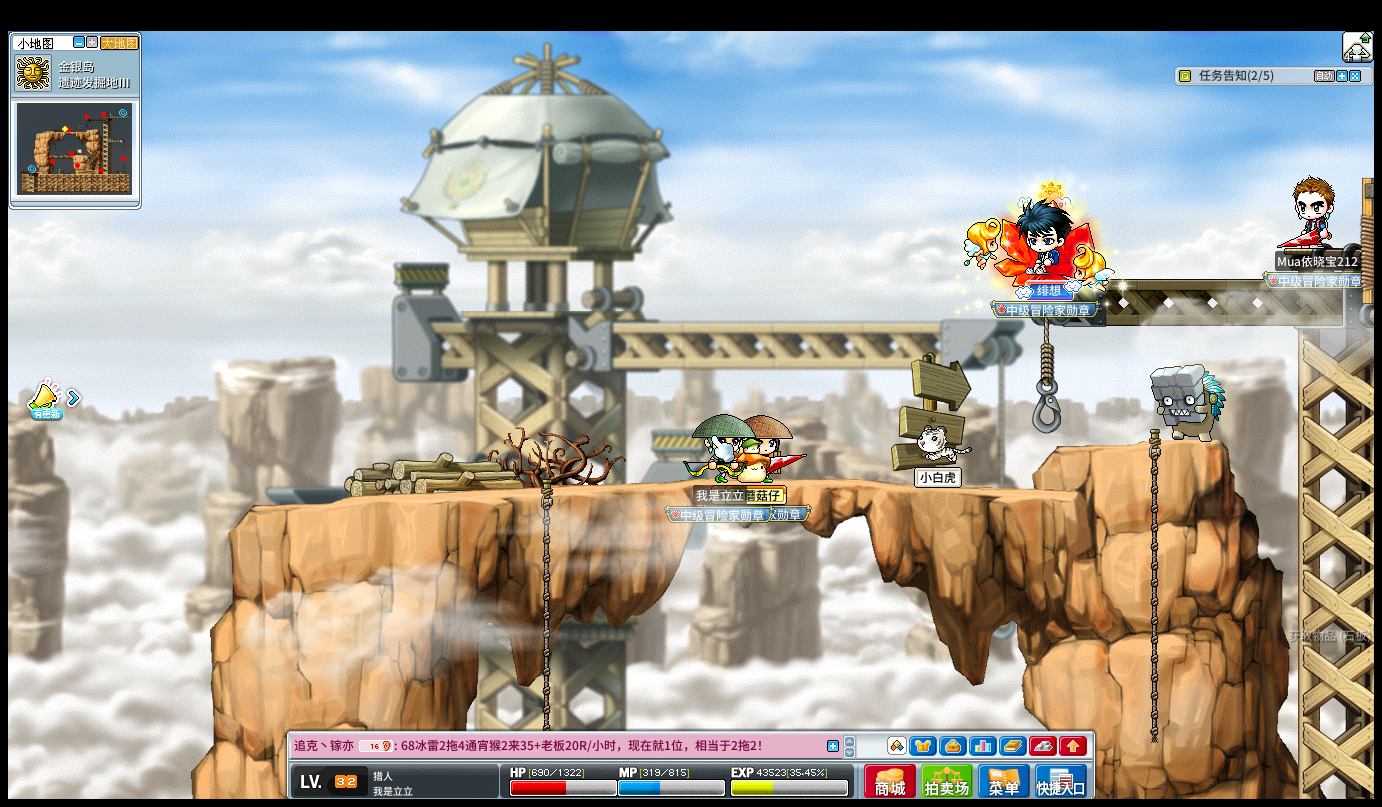floor: (239, 474, 1110, 502), (1055, 436, 1222, 452)
monster: (1151, 364, 1225, 441)
rope: (1145, 424, 1161, 747), (540, 477, 552, 677)
